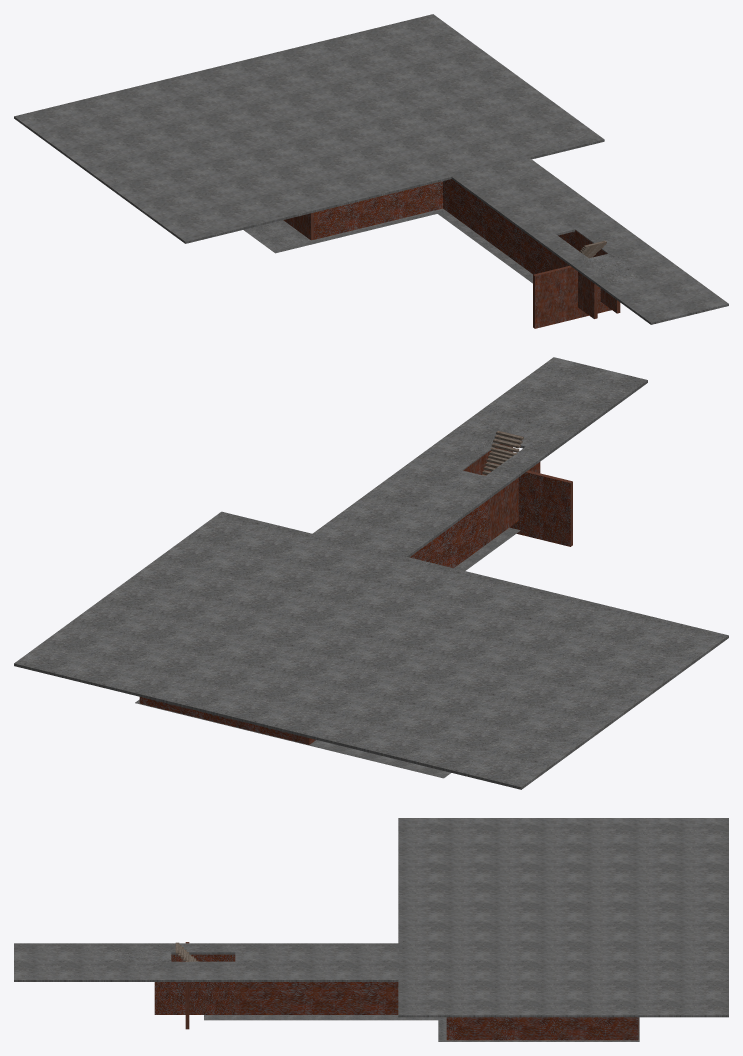
File: SotanoLuces.obj
The picture shows the model from 3 angles, top to bottom: view 1: azimuth 30°, elevation 25°; view 2: azimuth 150°, elevation 25°; view 3: azimuth 270°, elevation 25°; orthographic projection. The views are drawn at different scales.
Visible parts, largest first — view 1: Plane.001, Cube.033_Cube.026, Cube.016_Cube.019, Plane, Cube.017_Cube.083, Cube.015_Cube.082, Cube.014_Cube.079; view 2: Plane.001, Cube.017_Cube.083, Cube.033_Cube.026, Plane, Cube.015_Cube.082, Cube.038_Cube.039; view 3: Plane.001, Cube.032_Cube.018, Cube.036_Cube.037, Cube.014_Cube.079, Plane, Cube.015_Cube.082.
Part boxes in pixels (x1=…): Plane.001: x1=14, y1=14, x2=728, y2=324; Cube.033_Cube.026: x1=443, y1=179, x2=550, y2=274; Cube.016_Cube.019: x1=314, y1=181, x2=442, y2=239; Plane: x1=243, y1=208, x2=532, y2=283; Cube.017_Cube.083: x1=533, y1=265, x2=611, y2=328; Cube.015_Cube.082: x1=551, y1=252, x2=597, y2=318; Cube.014_Cube.079: x1=575, y1=230, x2=620, y2=313; Plane.001: x1=14, y1=357, x2=728, y2=789; Cube.017_Cube.083: x1=491, y1=462, x2=572, y2=546; Cube.033_Cube.026: x1=409, y1=500, x2=489, y2=568; Plane: x1=135, y1=527, x2=520, y2=778; Cube.015_Cube.082: x1=488, y1=462, x2=540, y2=542; Cube.038_Cube.039: x1=141, y1=697, x2=303, y2=743; Plane.001: x1=14, y1=818, x2=728, y2=1017; Cube.032_Cube.018: x1=235, y1=982, x2=398, y2=1014; Cube.036_Cube.037: x1=446, y1=1017, x2=637, y2=1040; Cube.014_Cube.079: x1=154, y1=982, x2=240, y2=1014; Plane: x1=204, y1=1015, x2=639, y2=1041; Cube.015_Cube.082: x1=171, y1=954, x2=234, y2=961.
Size of the model in its own units: 48.92 by 8.31 by 74.94.
9 materials, 8 textured.
